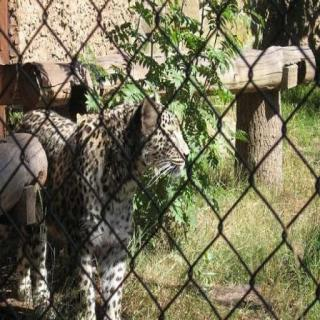Leopard: (64, 91, 193, 307)
